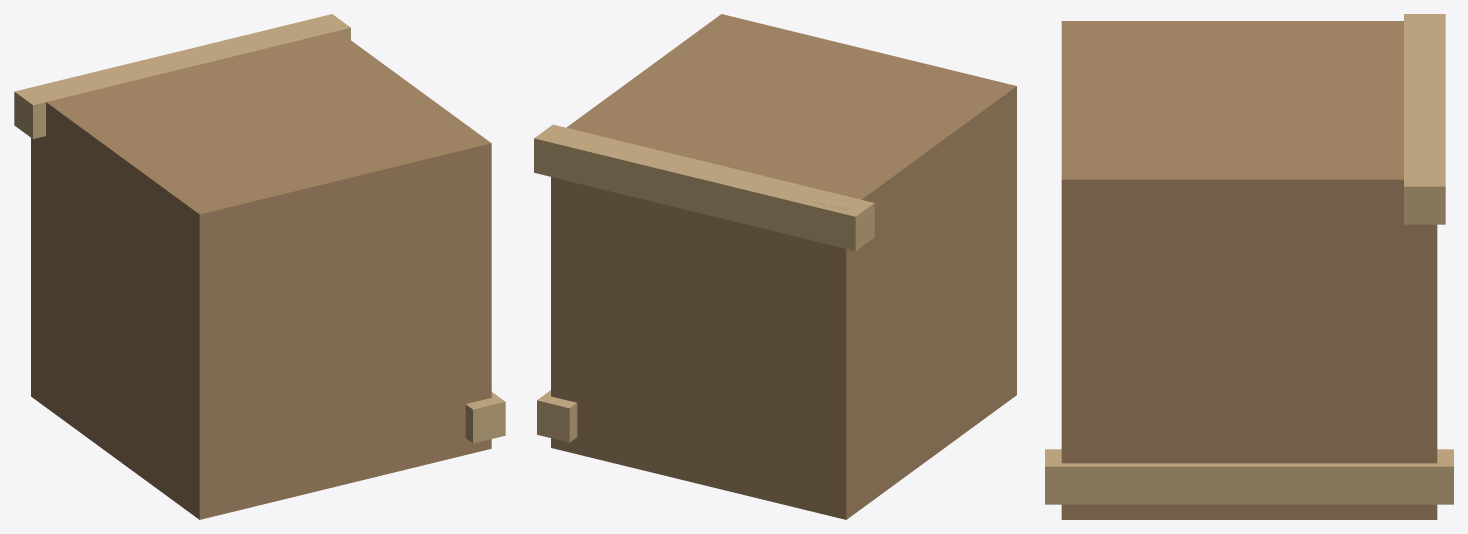
Rendered from crate.glb.
3 views of the same model, side by side, from view 1: azimuth 30°, elevation 25°; view 2: azimuth 150°, elevation 25°; view 3: azimuth 270°, elevation 25° (orthographic). The views are drawn at different scales.
Parts seen in each view (by area): view 1: Crate; view 2: Crate; view 3: Crate.
Part boxes in pixels (x1=…): Crate: x1=14, y1=14, x2=505, y2=519; Crate: x1=534, y1=14, x2=1016, y2=519; Crate: x1=1045, y1=14, x2=1453, y2=519.
Size of the model in its own units: 0.98 by 0.9 by 0.98.
